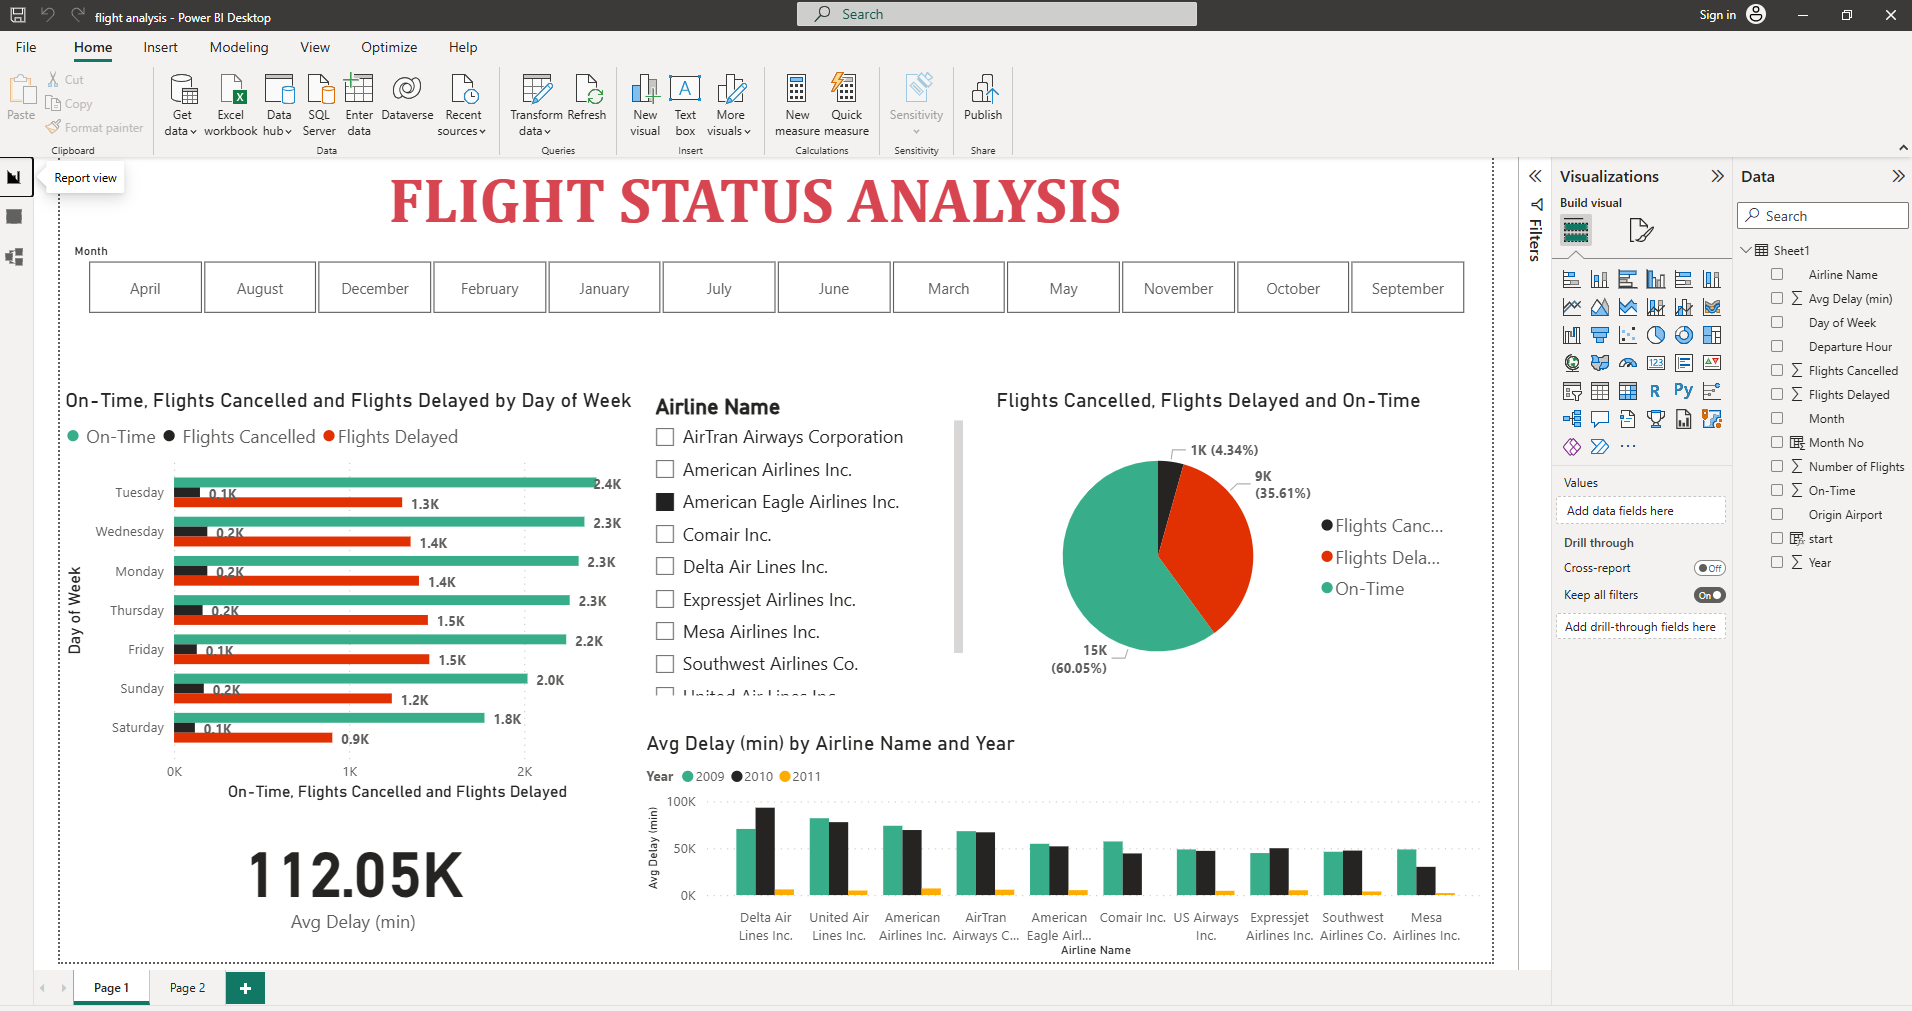

What the dashboard file says about the page in this screenshot:
{"tool":"powerbi","page":{"name":"Page 1","canvas":[1280,720],"ordinal":0},"visuals":[{"type":"textbox","box":[288.7,0,714.1,93.1],"z":0},{"type":"slicer","fields":{"Values":["Sheet1.Month"]},"box":[0,72.2,1280,74.1],"z":1000},{"type":"clusteredBarChart","title":"On-Time, Flights Cancelled and Flights Delayed by Day of Week","fields":{"Y":["Sum(Sheet1.On-Time)","Sum(Sheet1.Flights Cancelled)","Sum(Sheet1.Flights Delayed)"],"Category":["Sheet1.Day of Week"]},"box":[0,206.7,519.9,374],"z":2000},{"type":"slicer","fields":{"Values":["Sheet1.Airline Name"]},"box":[519.7,206.6,293.4,280],"z":3000},{"type":"pieChart","fields":{"Y":["Sum(Sheet1.Flights Cancelled)","Sum(Sheet1.Flights Delayed)","Sum(Sheet1.On-Time)"]},"box":[833.1,206.7,422.6,279.7],"z":4000},{"type":"clusteredColumnChart","fields":{"Series":["Sheet1.Year"],"Y":["Sum(Sheet1.Avg Delay (min))"],"Category":["Sheet1.Airline Name"]},"box":[519.9,513.8,760.1,206.7],"z":5000},{"type":"card","fields":{"Values":["Sum(Sheet1.Avg Delay (min))"]},"box":[76,580.7,372.4,129.2],"z":6000}]}

Visuals, with their boxes on the page's 1280x720 design canvas (x1, y1, x2, y2). These are canvas units, not pixel positions in the 1912x1011 screenshot, which may show the page scaled, cropped or inside an application window:
textbox: (left=289, top=0, right=1003, bottom=93)
slicer - Sheet1.Month: (left=0, top=72, right=1280, bottom=146)
"On-Time, Flights Cancelled and Flights Delayed by Day of Week" clusteredBarChart: (left=0, top=207, right=520, bottom=581)
slicer - Sheet1.Airline Name: (left=520, top=207, right=813, bottom=487)
pieChart - Sum(Sheet1.Flights Cancelled) x Sum(Sheet1.Flights Delayed): (left=833, top=207, right=1256, bottom=486)
clusteredColumnChart - Sheet1.Year x Sum(Sheet1.Avg Delay (min)): (left=520, top=514, right=1280, bottom=720)
card - Sum(Sheet1.Avg Delay (min)): (left=76, top=581, right=448, bottom=710)
